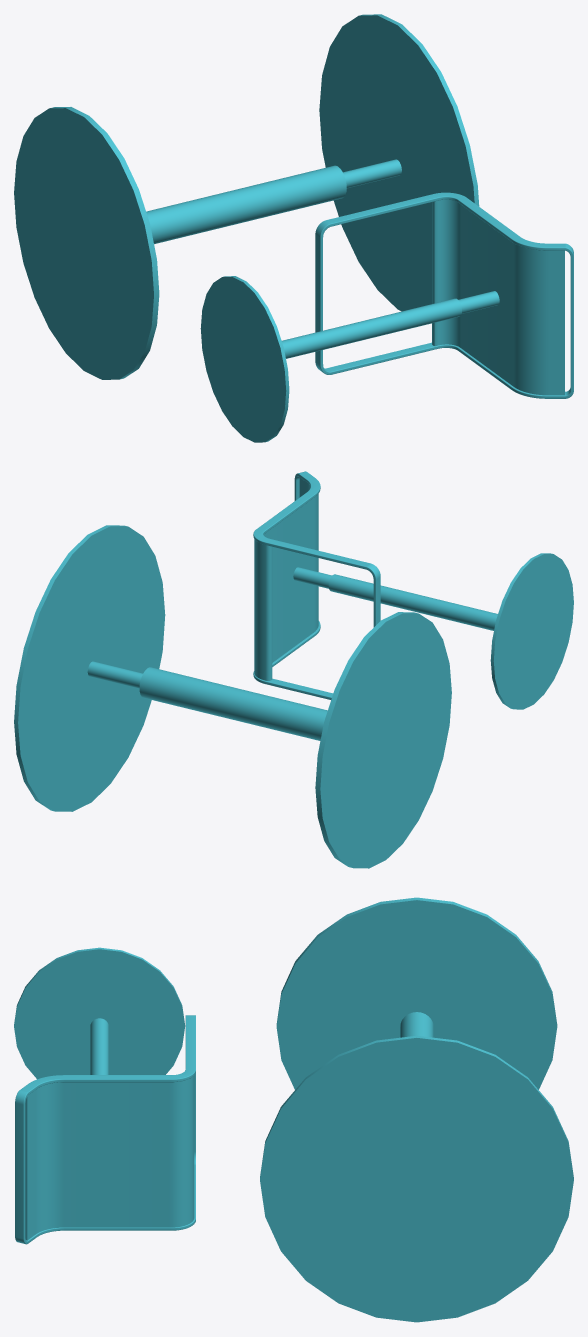
3 renders of one model, top to bottom at view 1: azimuth 30°, elevation 25°; view 2: azimuth 150°, elevation 25°; view 3: azimuth 270°, elevation 25°, orthographic. The views are drawn at different scales.
Visible parts, largest first — view 1: Renderer Node; view 2: Renderer Node; view 3: Renderer Node.
Boxes of the visible parts, bbox=[...] form: Renderer Node: bbox=[14, 14, 573, 442]; Renderer Node: bbox=[14, 471, 573, 868]; Renderer Node: bbox=[14, 897, 573, 1322].
Size of the model in its own units: 0.4971 by 0.4245 by 0.7568.
Materials: 1 (1 with a texture image).
